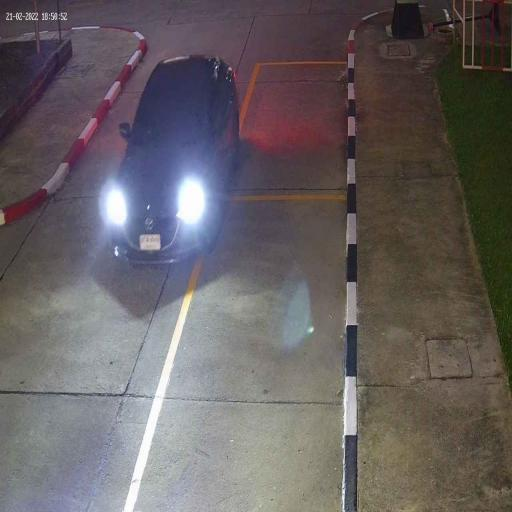car: (110, 54, 240, 268)
